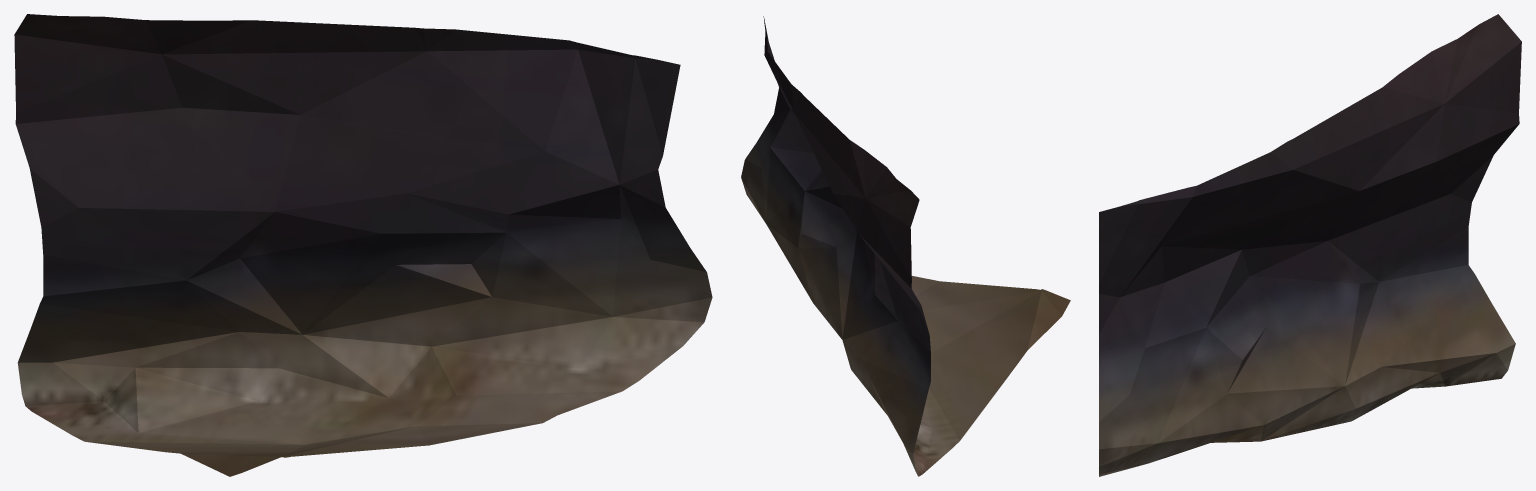
3 renders of one model, left to right at view 1: azimuth 30°, elevation 25°; view 2: azimuth 150°, elevation 25°; view 3: azimuth 270°, elevation 25°, orthographic. The views are drawn at different scales.
Bounding box in the file's own units: 0.2225 × 0.1784 × 0.1871.
1 material, 1 textured.
